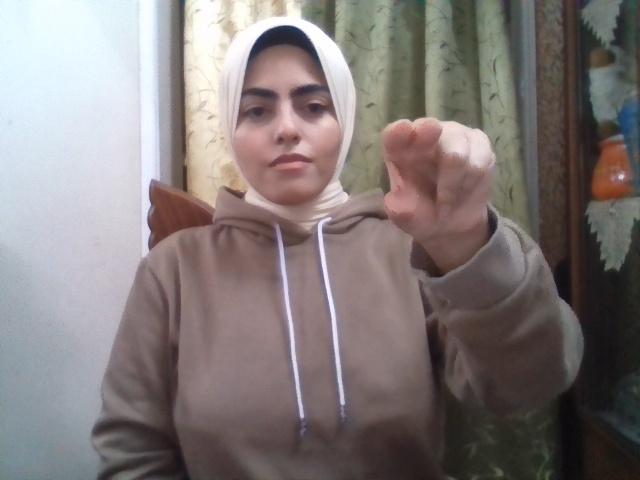no: (380, 117, 497, 243)
